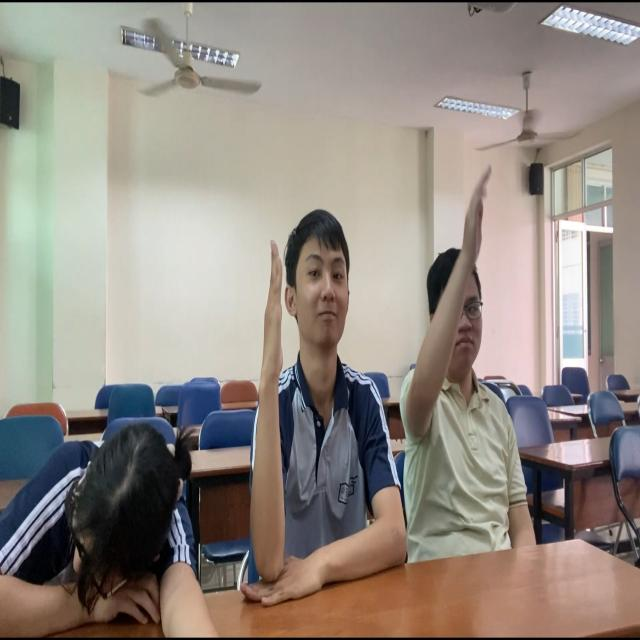raise_hand: (234, 163, 409, 616), (398, 140, 543, 569)
sleep: (1, 354, 223, 640)
